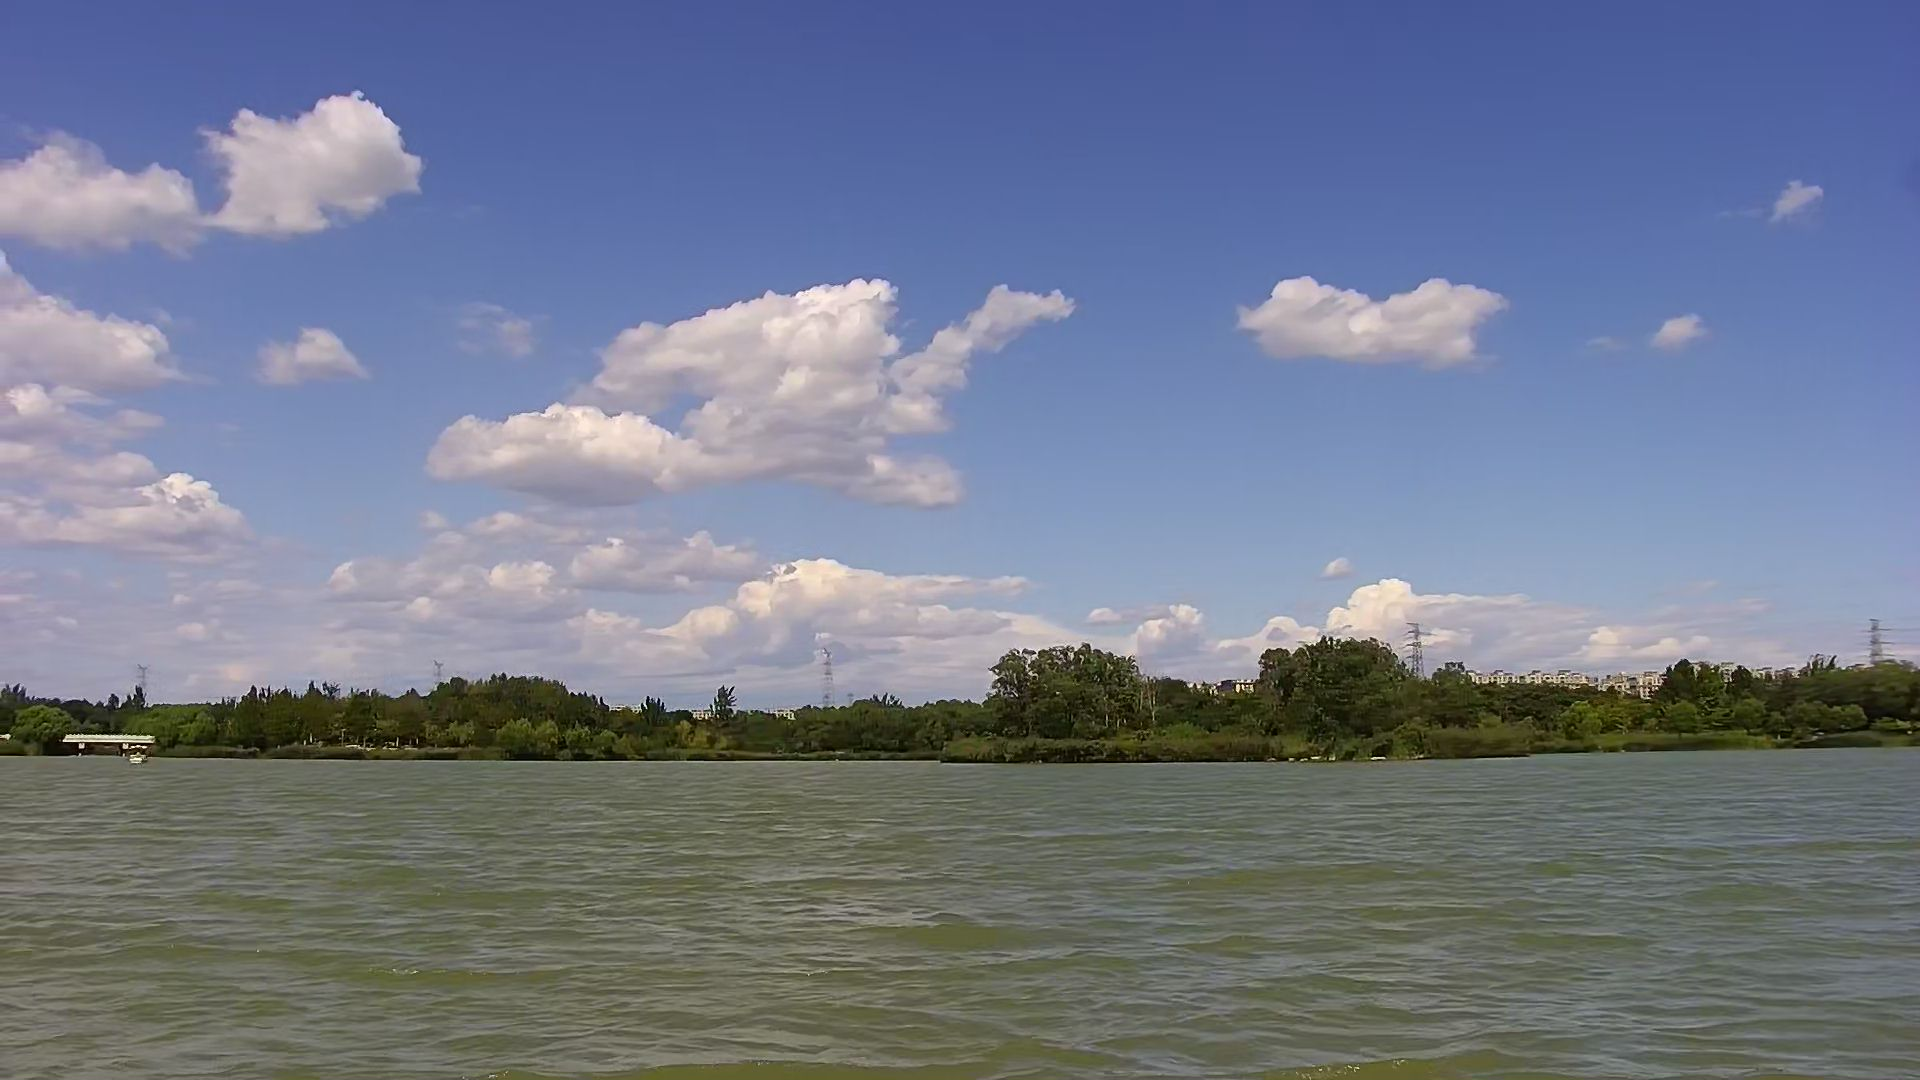boat: (125, 740, 149, 774)
bridge: (61, 713, 153, 756)
